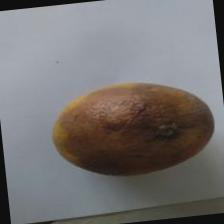Orange Rotten: (40, 68, 224, 190)
